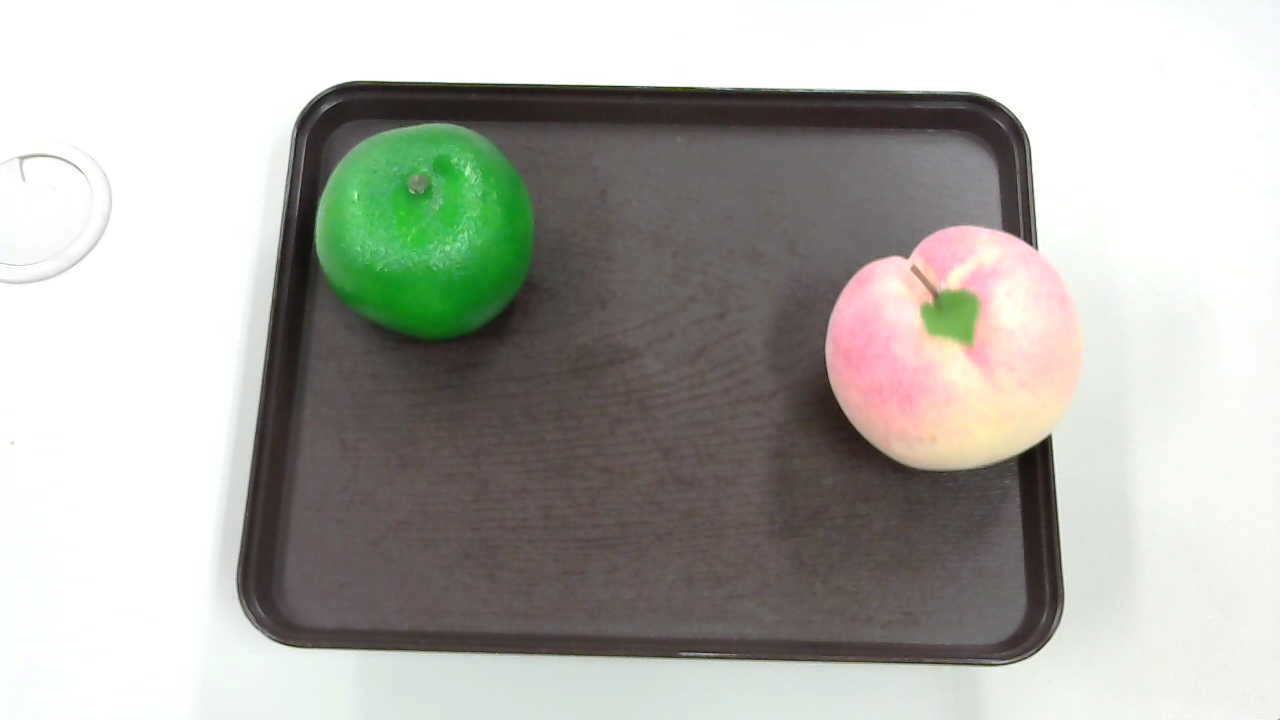green orange: (307, 118, 547, 351)
peach: (821, 221, 1086, 472)
